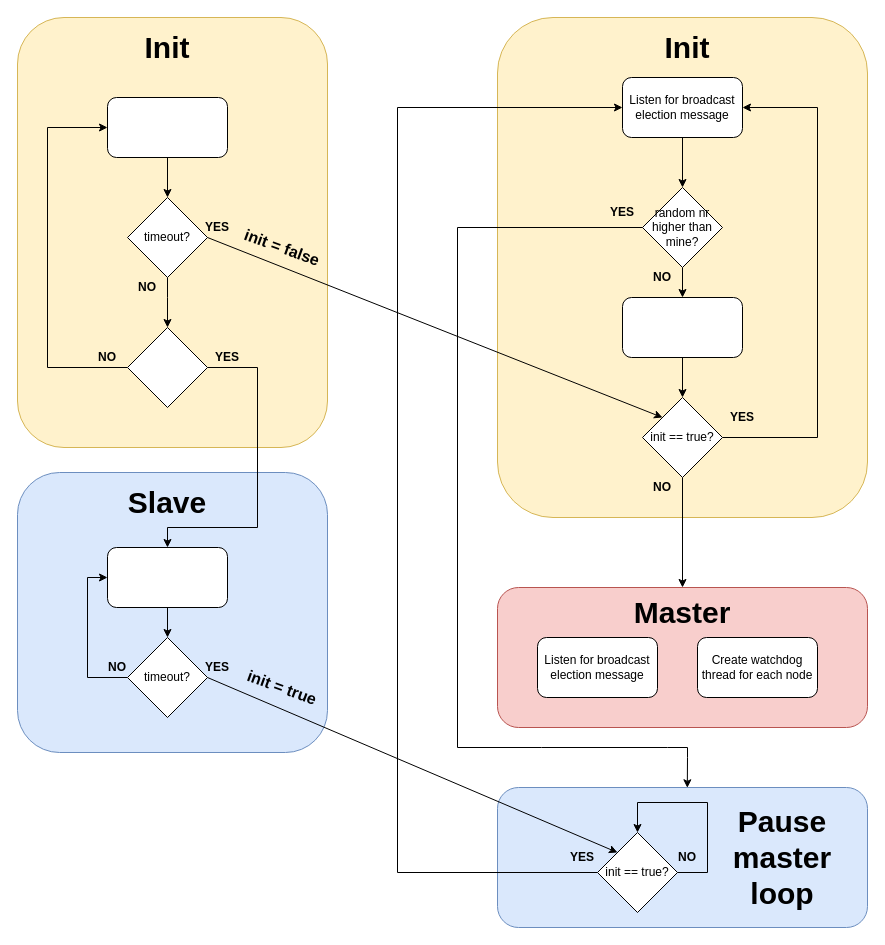
Some shapes in this 885 by 945 pixel diagram are drawn without their labels. Each missing label, with the centre of its shape:
"Broadcast election message + random number and listen for reply" belongs at [167,127].
"Listen for color and send ping to master" belongs at [167,577].
"message == WELCOME?" belongs at [167,367].
"Store node info" belongs at [682,327].
